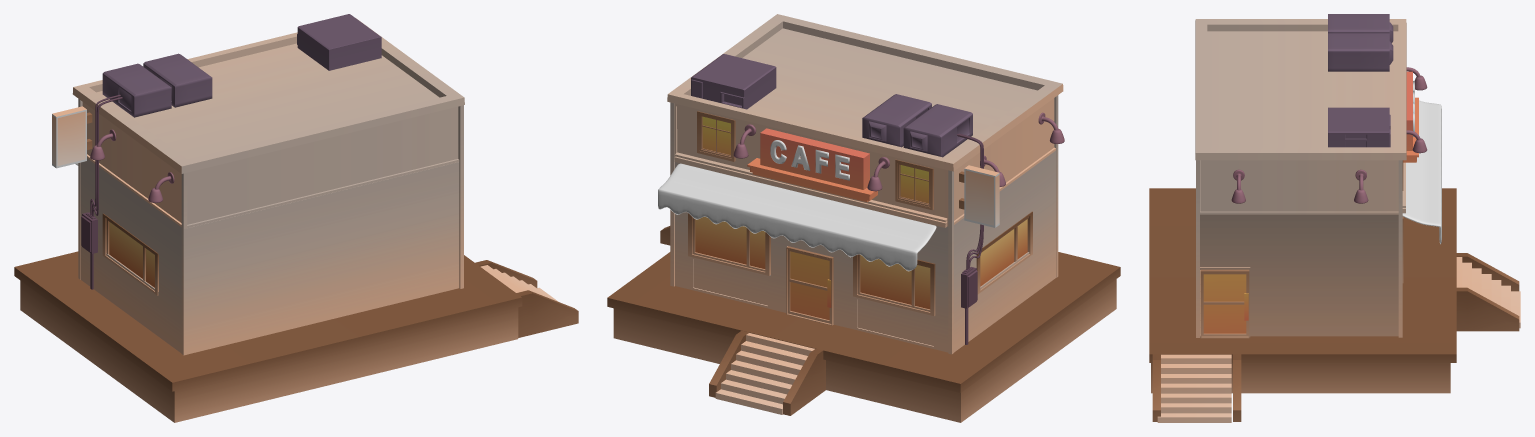
File: CafeBuilding002.fbx
3 views of the same model, side by side, from view 1: azimuth 30°, elevation 25°; view 2: azimuth 150°, elevation 25°; view 3: azimuth 270°, elevation 25° (orthographic). The views are drawn at different scales.
Visible parts, largest first — view 1: rooftop, wall.001, foundation, wall, ac.002, ac, window.002, ac.001, stairCase.003, Cube.030, Cube.060, electric (+2 smaller); view 2: rooftop, foundation, Shades, wall.003, wall, Sign, stairs.001, window.003, window.004, ac.002, door, ac (+12 smaller); view 3: rooftop, foundation, wall.002, stairs, Shades, door.001, ac.002, ac.001, stairCase.001, stairs.001, ac, Cube.019 (+5 smaller).
Part boxes in pixels (x1,y1,x2,y2): rooftop: (72, 18, 464, 227); wall.001: (184, 162, 459, 355); foundation: (14, 251, 522, 422); wall: (80, 158, 181, 353); ac.002: (297, 14, 381, 70); ac: (102, 63, 171, 117); window.002: (102, 213, 158, 295); ac.001: (143, 53, 212, 107); stairCase.003: (516, 290, 578, 337); Cube.030: (52, 106, 86, 168); Cube.060: (458, 105, 463, 288); electric: (81, 212, 97, 289); rooftop: (667, 14, 1063, 227); foundation: (607, 252, 1120, 422); Shades: (658, 163, 936, 271); wall.003: (675, 162, 948, 352); wall: (954, 150, 1055, 352); Sign: (747, 128, 877, 202); stairs.001: (715, 333, 814, 414); window.003: (853, 254, 935, 316); window.004: (688, 213, 770, 275); ac.002: (691, 54, 776, 109); door: (786, 246, 833, 325); ac: (903, 104, 972, 157); rooftop: (1195, 19, 1406, 214); foundation: (1149, 188, 1456, 393); wall.002: (1200, 214, 1398, 337); stairs: (1157, 354, 1231, 422); Shades: (1402, 100, 1441, 244); door.001: (1200, 269, 1249, 338); ac.002: (1328, 107, 1390, 147); ac.001: (1328, 33, 1393, 71); stairCase.001: (1456, 287, 1519, 331); stairs.001: (1456, 257, 1520, 328); ac: (1328, 14, 1393, 43); Cube.019: (1398, 160, 1402, 337).
Size of the model in its own units: 2076 by 1205 by 1679.
Materials: 9 (2 with a texture image).
